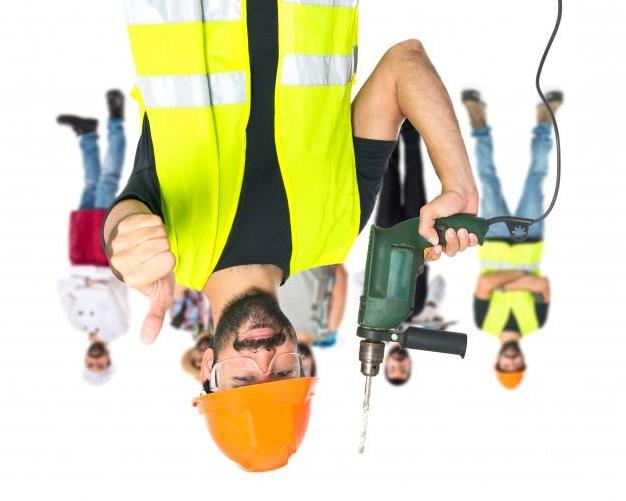thumbsdown: (110, 214, 176, 345)
